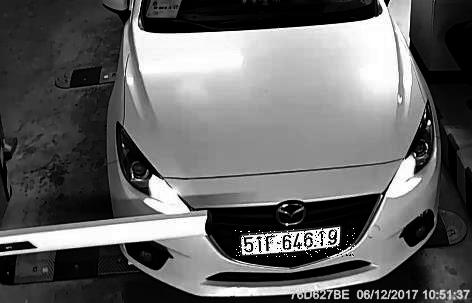License-plate: (236, 229, 356, 258)
